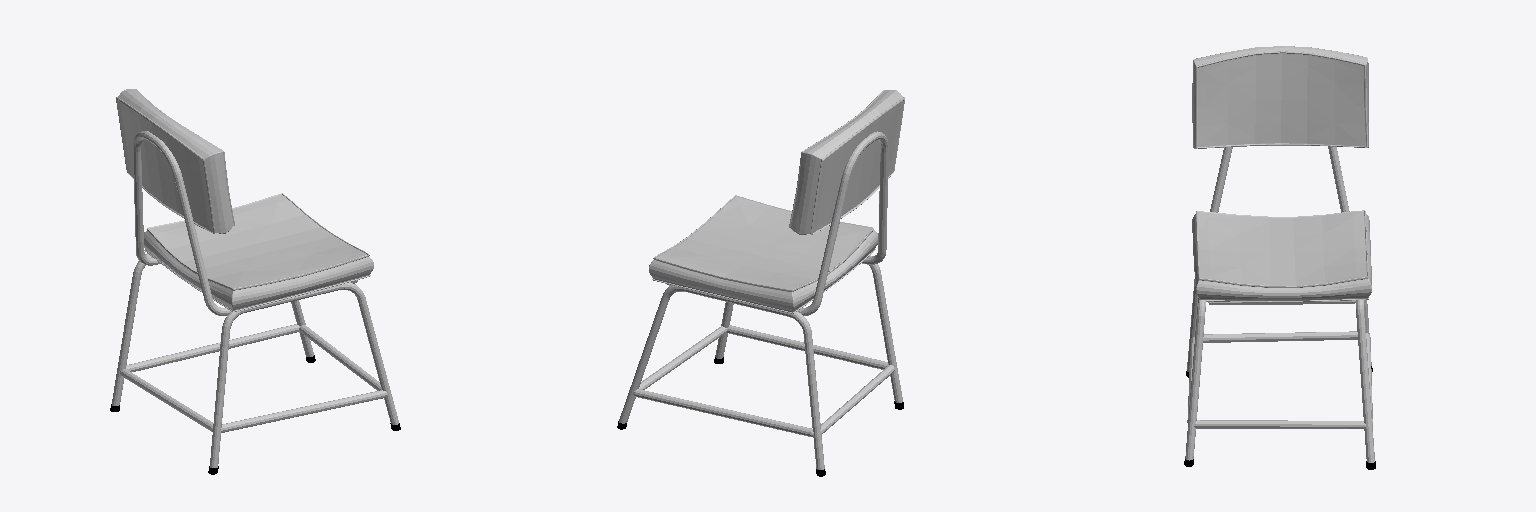
3 views of the same model, side by side, from view 1: azimuth 30°, elevation 25°; view 2: azimuth 150°, elevation 25°; view 3: azimuth 270°, elevation 25° (orthographic).
Visible parts, largest first — view 1: Plane.018, Plane.016, Rectangl16.002, Line263.002, Line265.002, Line264.002; view 2: Plane.018, Plane.016, Rectangl16.002, Line264.002, Line265.002, Line263.002; view 3: Plane.016, Plane.018, Rectangl16.002, Line263.002, Line265.002, Line264.002.
Part boxes in pixels (x1,y1,x2,y2): Plane.018: (144,193,373,311); Plane.016: (116,89,234,233); Rectangl16.002: (120,324,387,432); Line263.002: (210,282,398,467); Line265.002: (133,131,357,315); Line264.002: (112,253,313,405); Plane.018: (649,195,877,313); Plane.016: (789,90,904,234); Rectangl16.002: (633,325,894,437); Line264.002: (619,285,824,469); Line265.002: (667,131,888,315); Line263.002: (715,255,902,402); Plane.016: (1192,46,1368,148); Plane.018: (1192,210,1371,301); Rectangl16.002: (1187,331,1372,428); Line263.002: (1185,279,1205,460); Line265.002: (1208,146,1355,304); Line264.002: (1356,300,1374,462).
Size of the model in its own units: 0.5617 by 0.836 by 0.4452.
Materials: 3 (2 with a texture image).